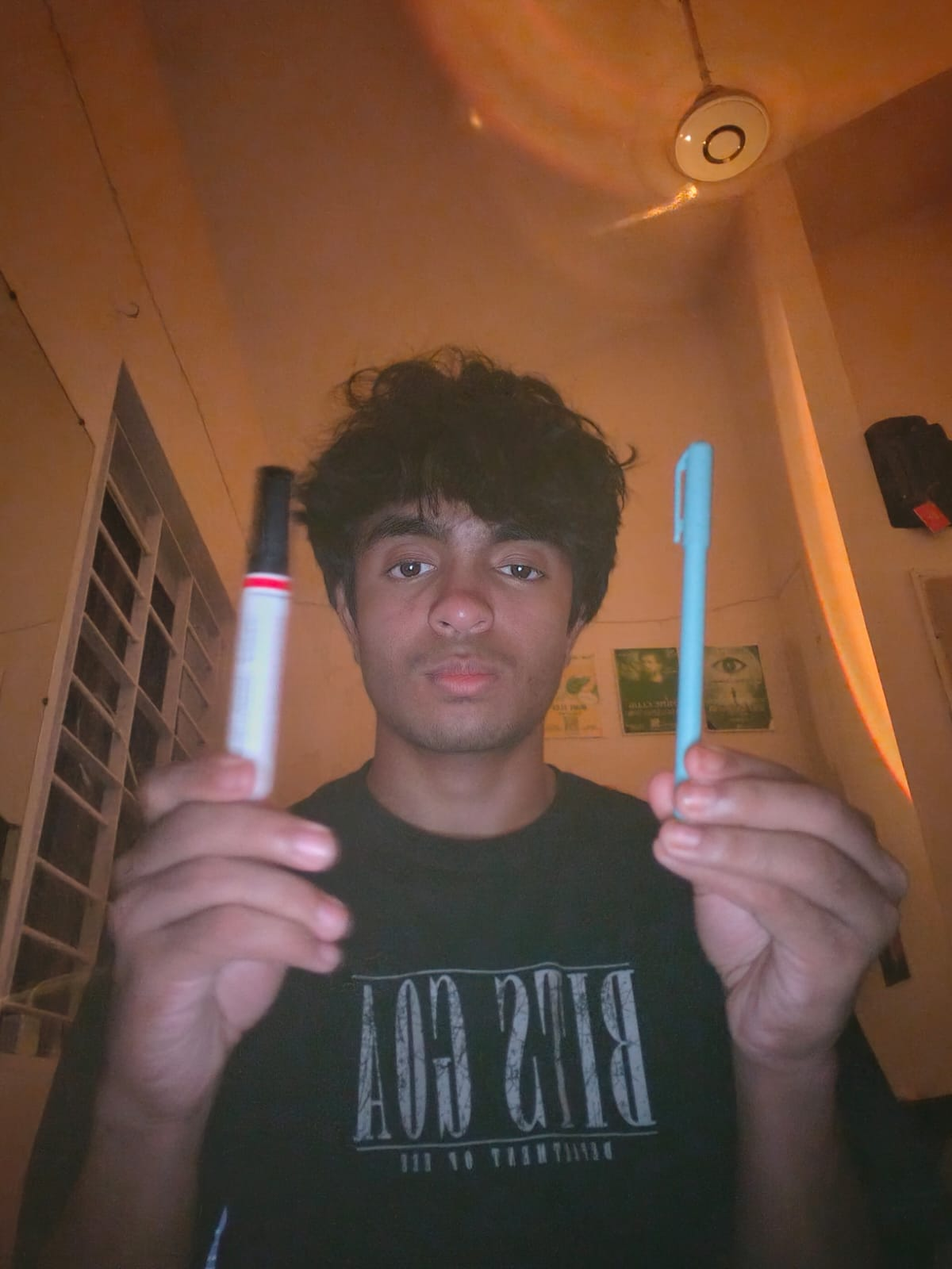case: (231, 463, 314, 801)
pen: (651, 426, 734, 789)
